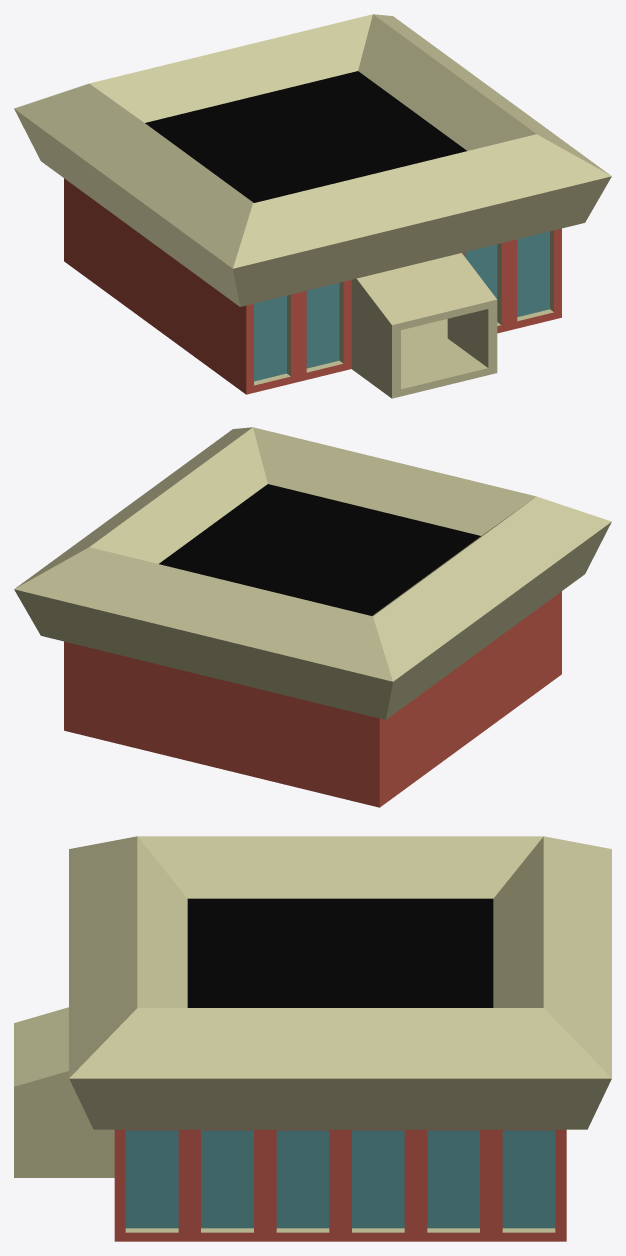
The model's file is NewSchool6.fbx.
The picture shows the model from 3 angles, top to bottom: view 1: azimuth 30°, elevation 25°; view 2: azimuth 150°, elevation 25°; view 3: azimuth 270°, elevation 25°; orthographic projection. The views are drawn at different scales.
Parts seen in each view (by area): view 1: S6; view 2: S6; view 3: S6.
Part boxes in pixels (box(x1,y1,x2,y2)): S6: box(14, 14, 611, 398); S6: box(14, 427, 611, 807); S6: box(14, 836, 611, 1241).
Bounding box in the file's own units: 10.99 × 5 × 12.1.
